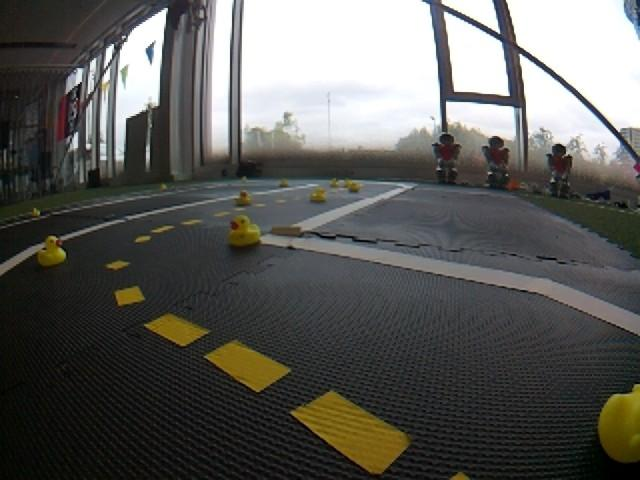Duckies: (598, 379, 640, 463), (227, 215, 262, 246), (38, 236, 66, 266), (310, 187, 327, 202), (235, 190, 251, 204), (351, 183, 361, 191), (31, 209, 40, 217), (344, 178, 353, 186), (329, 179, 339, 186), (279, 179, 288, 186), (160, 183, 168, 189), (241, 176, 246, 183)
